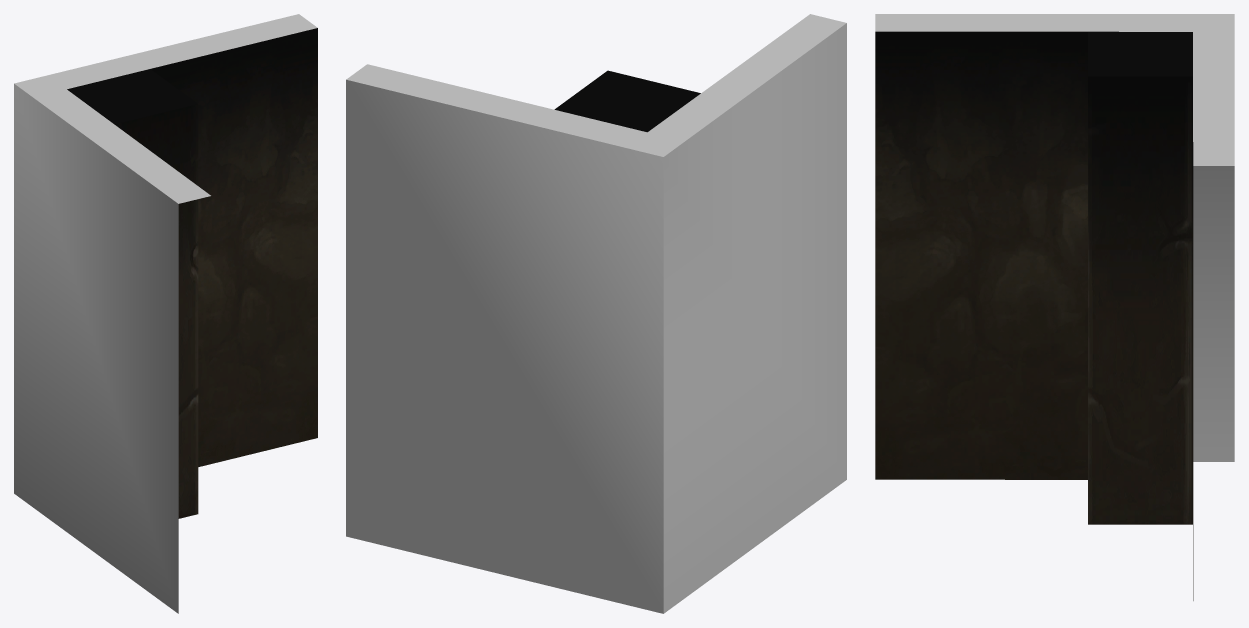
The model's file is fortress_fade_concave_01.fbx.
3 renders of one model, left to right at view 1: azimuth 30°, elevation 25°; view 2: azimuth 150°, elevation 25°; view 3: azimuth 270°, elevation 25°, orthographic. The views are drawn at different scales.
Parts seen in each view (by area): view 1: fortress_fade_concave_01-0; view 2: fortress_fade_concave_01-0; view 3: fortress_fade_concave_01-0.
Boxes of the visible parts, left/top/right/bottom form: fortress_fade_concave_01-0: left=14, top=14, right=317, bottom=613; fortress_fade_concave_01-0: left=346, top=14, right=846, bottom=613; fortress_fade_concave_01-0: left=875, top=14, right=1234, bottom=600.
Bounding box in the file's own units: 4 × 5.5 × 4.
